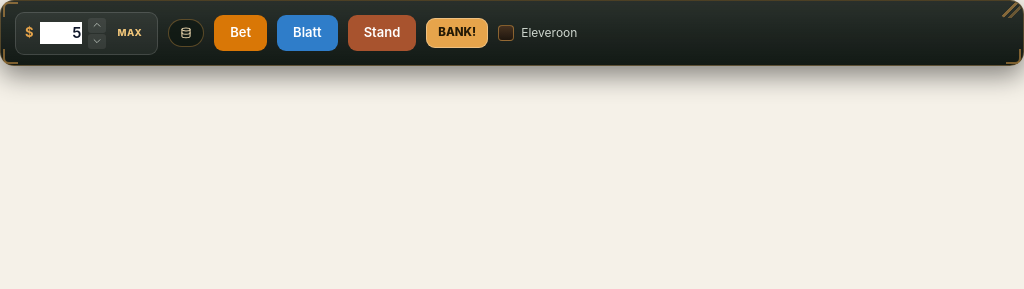
Test: PlayerDock quick-bet chips › puts the first tapped amount in the field, replacing the default
Click the button named "Quick-bet amounts": (186, 33) x1=168 y1=19 x2=204 y2=47
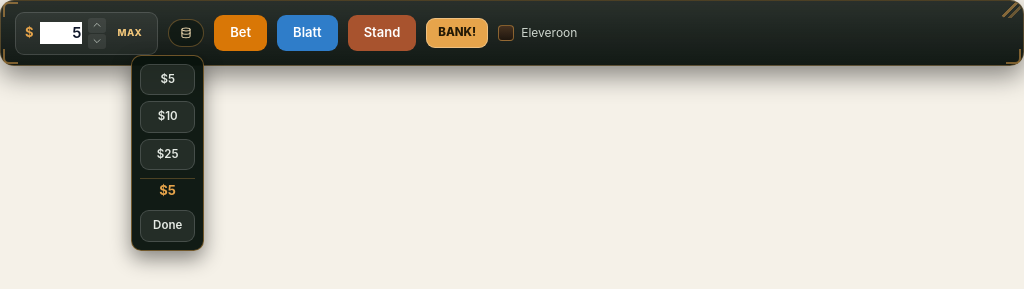
Click the menu item named "Add $10 to the bet": (168, 117) x1=140 y1=101 x2=195 y2=133
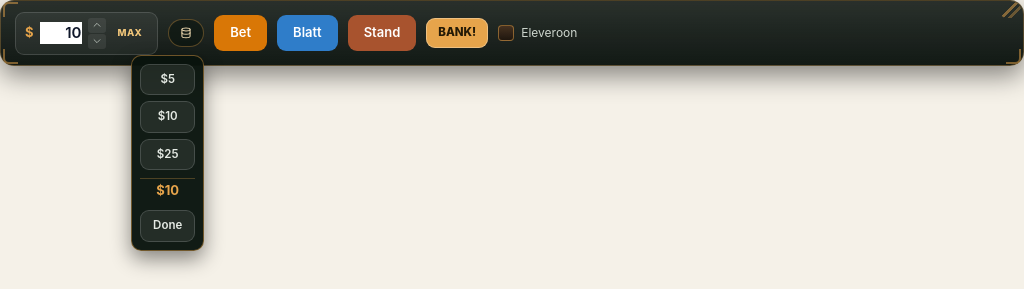
Result: the number field named "Bet amount" holds "10" at x1=40 y1=22 x2=82 y2=44
